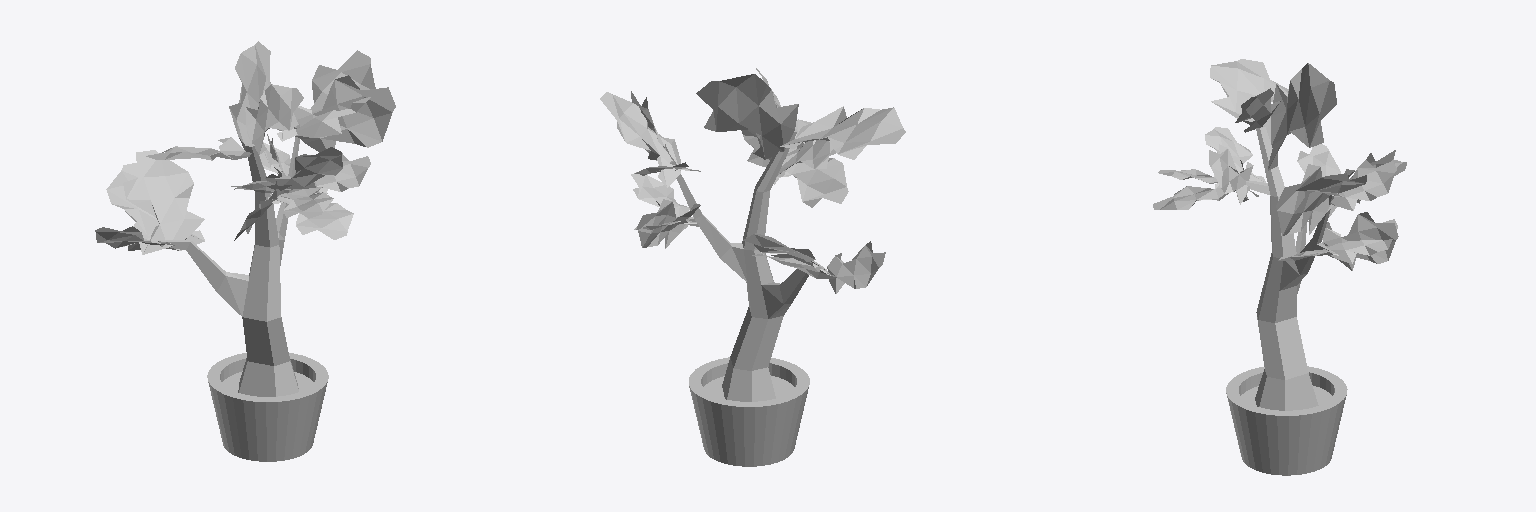
The model's file is plant.obj.
3 renders of one model, left to right at view 1: azimuth 30°, elevation 25°; view 2: azimuth 150°, elevation 25°; view 3: azimuth 270°, elevation 25°, orthographic.
Visible parts, largest first — view 1: Tree_Cube.005; view 2: Tree_Cube.005; view 3: Tree_Cube.005.
Part boxes in pixels (x1,y1,x2,y2): Tree_Cube.005: (95, 41, 395, 461); Tree_Cube.005: (600, 68, 905, 466); Tree_Cube.005: (1153, 59, 1406, 475).
Bounding box in the file's own units: 1.31 × 1.75 × 1.05.